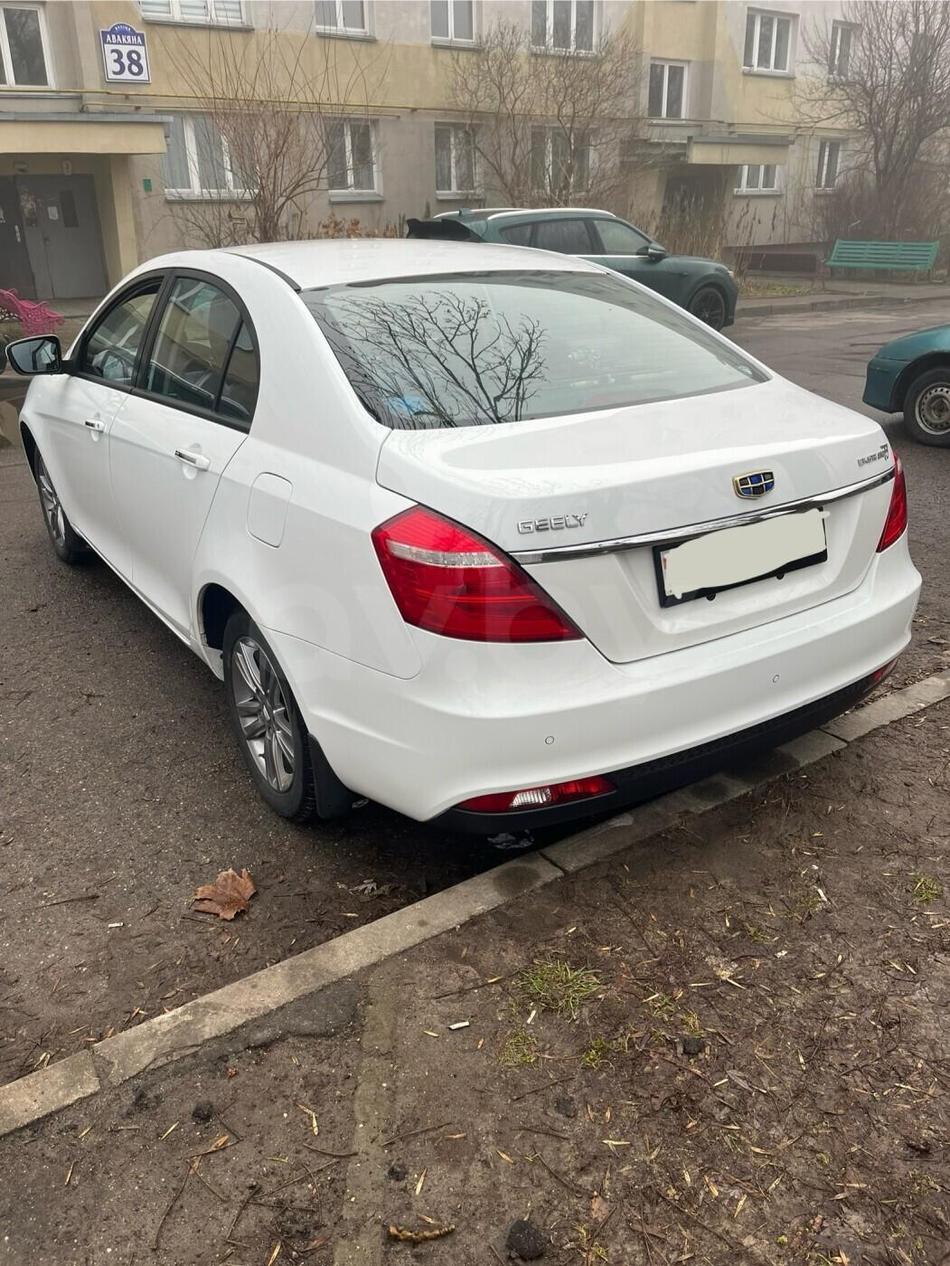Emgrand_2019-2021: (8, 240, 920, 831)
